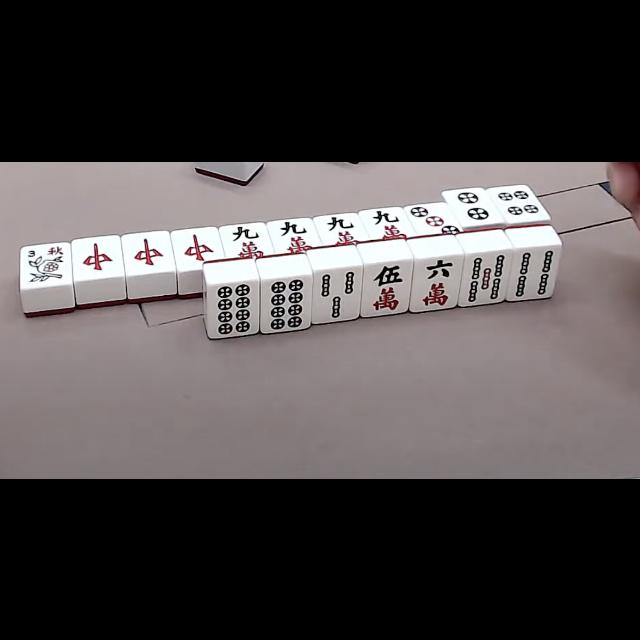b3: (313, 268, 362, 322)
b4: (508, 248, 558, 298)
b5: (462, 252, 510, 304)
c5: (363, 260, 411, 314)
c6: (414, 254, 460, 310)
c9: (364, 207, 410, 243), (271, 218, 317, 252), (224, 223, 270, 257), (318, 213, 364, 244)
d2: (448, 188, 498, 225)
d3: (408, 204, 460, 238)
d4: (496, 184, 544, 222)
d8: (210, 280, 260, 336), (262, 277, 310, 331)
dr: (174, 228, 222, 266), (125, 233, 172, 271), (74, 238, 120, 276)
s3: (22, 244, 68, 260)
